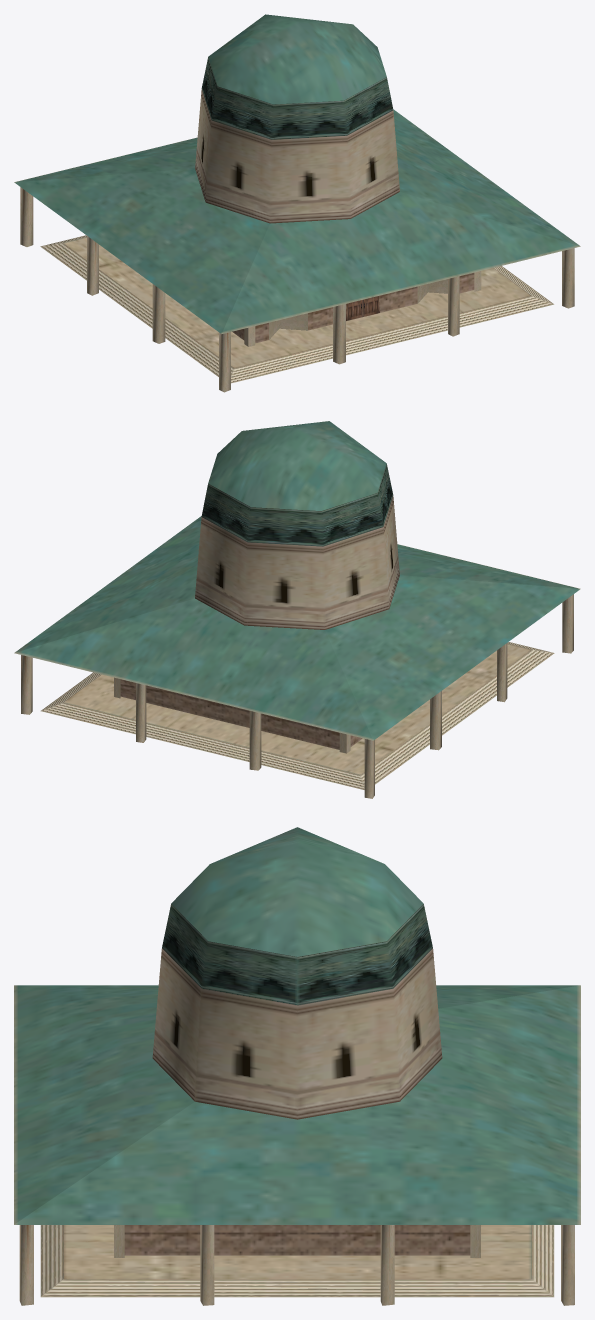
File: thm_nboo_thed_imprv_building_s01_l2.fbx
3 renders of one model, top to bottom at view 1: azimuth 30°, elevation 25°; view 2: azimuth 150°, elevation 25°; view 3: azimuth 270°, elevation 25°, orthographic. The views are drawn at different scales.
Visible parts, largest first — view 1: mesh_node; view 2: mesh_node; view 3: mesh_node.
Part boxes in pixels (x1,y1,x2,y2): mesh_node: (14,14,580,392); mesh_node: (14,421,580,798); mesh_node: (14,827,580,1305).
Bounding box in the file's own units: 47.12 × 31.72 × 47.14.
